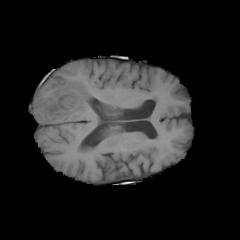glioma: (46, 79, 94, 119)
